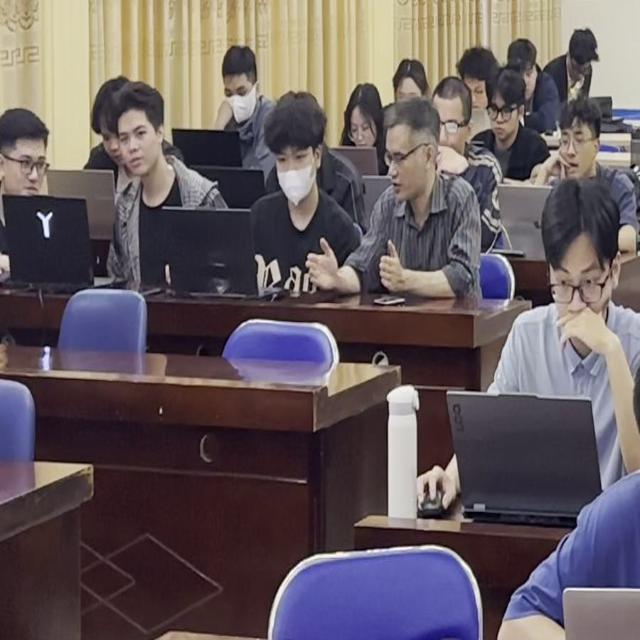Looking away: (536, 183, 611, 330), (378, 100, 438, 201), (270, 102, 327, 205), (0, 111, 49, 199), (428, 79, 474, 158), (217, 48, 257, 128), (558, 110, 593, 180), (488, 76, 521, 146), (346, 84, 379, 148), (563, 31, 596, 82)
Looking forward: (114, 90, 166, 178)
